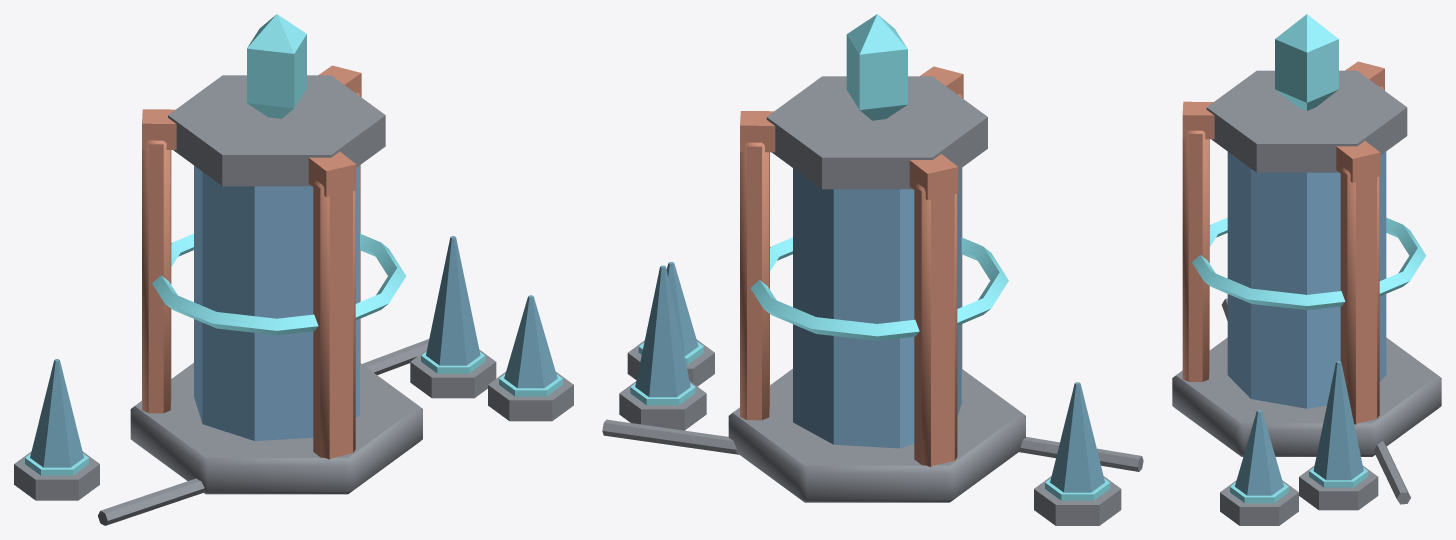
File: CalleGenerador.fbx
3 views of the same model, side by side, from view 1: azimuth 30°, elevation 25°; view 2: azimuth 150°, elevation 25°; view 3: azimuth 270°, elevation 25° (orthographic). The views are drawn at different scales.
Visible parts, largest first — view 1: CalleGenerador_Base_Metal, CalleGenerador_Base_Cristal, CalleGenerador_Base_Cuerpo, CalleGenerador_Base_Luz, CalleGenerador_Base_Toldo; view 2: CalleGenerador_Base_Metal, CalleGenerador_Base_Cristal, CalleGenerador_Base_Cuerpo, CalleGenerador_Base_Luz, CalleGenerador_Base_Toldo; view 3: CalleGenerador_Base_Metal, CalleGenerador_Base_Cristal, CalleGenerador_Base_Cuerpo, CalleGenerador_Base_Luz, CalleGenerador_Base_Toldo.
Boxes of the visible parts, x1,y1,x2,y2 form: CalleGenerador_Base_Metal: (14, 75, 573, 525); CalleGenerador_Base_Cristal: (194, 165, 359, 440); CalleGenerador_Base_Cuerpo: (142, 65, 361, 459); CalleGenerador_Base_Luz: (25, 14, 562, 475); CalleGenerador_Base_Toldo: (30, 236, 557, 467); CalleGenerador_Base_Metal: (602, 76, 1143, 525); CalleGenerador_Base_Cristal: (793, 168, 961, 448); CalleGenerador_Base_Cuerpo: (740, 66, 963, 467); CalleGenerador_Base_Luz: (630, 14, 1110, 500); CalleGenerador_Base_Toldo: (635, 262, 1104, 492); CalleGenerador_Base_Metal: (1172, 70, 1441, 525); CalleGenerador_Base_Cristal: (1227, 152, 1386, 408); CalleGenerador_Base_Cuerpo: (1182, 61, 1384, 424); CalleGenerador_Base_Luz: (1192, 14, 1426, 503); CalleGenerador_Base_Toldo: (1235, 361, 1363, 495).
Bounding box in the file's own units: 1010 × 825 × 510.
